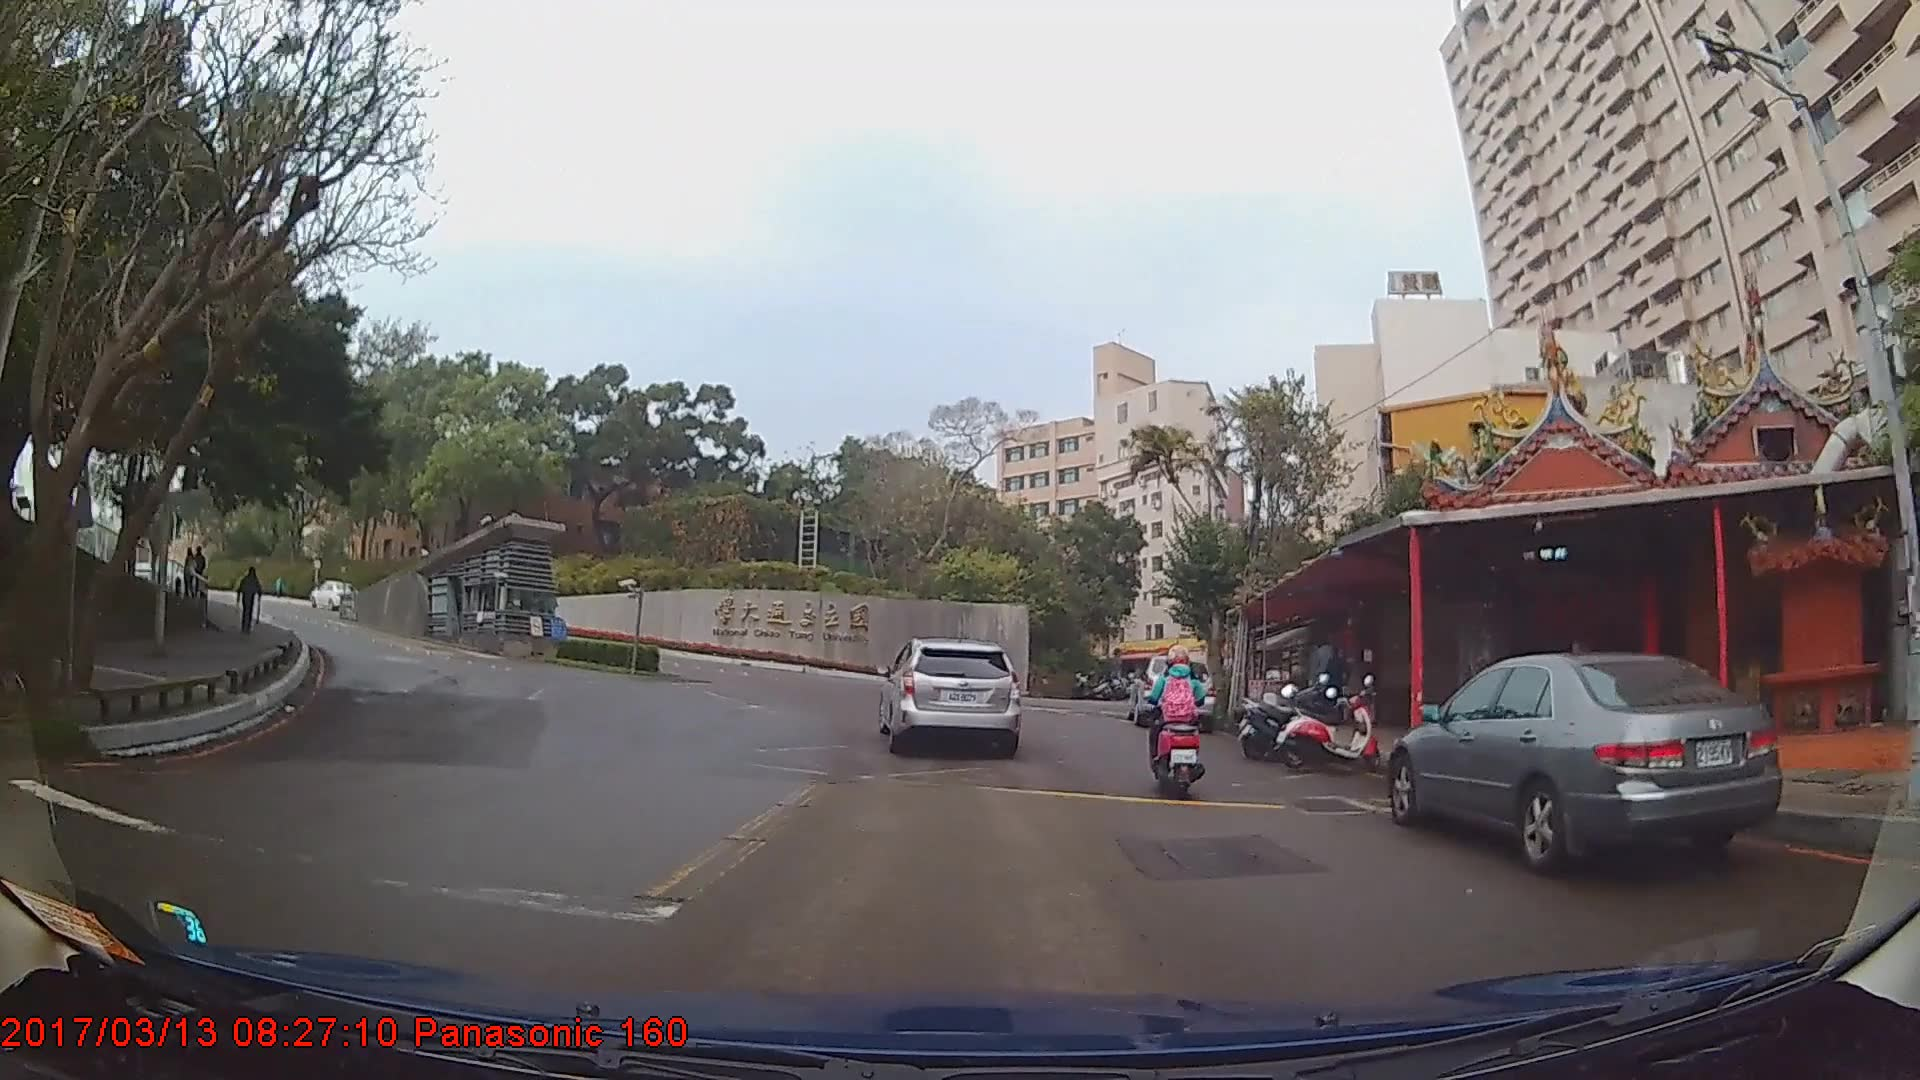pedestrian: (1324, 641, 1355, 732), (238, 566, 266, 633), (181, 547, 201, 602), (192, 545, 212, 600)
rider: (1142, 652, 1214, 811)
vehicle: (1387, 654, 1783, 876), (875, 637, 1020, 757), (1128, 652, 1217, 731), (310, 581, 359, 610)
